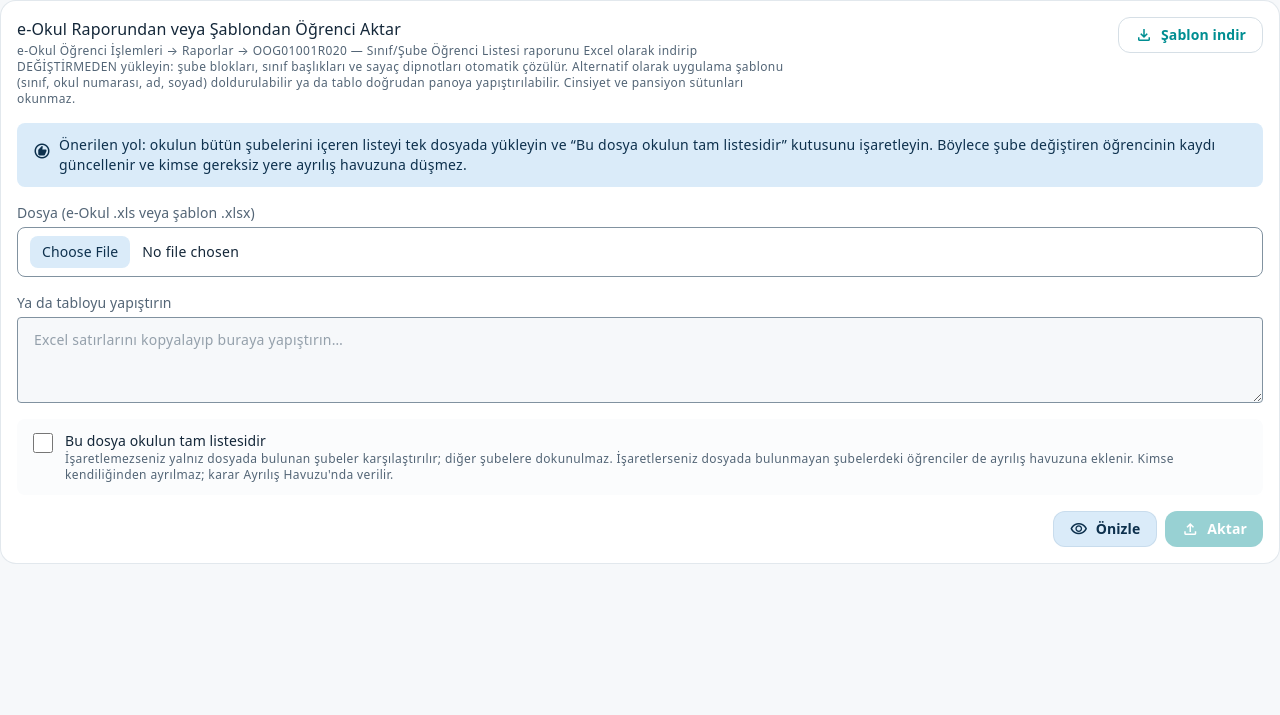
Test: AktarimPaneli — öğrenci mutabakatı ve ayrılış havuzu › onay kutusu değişince eski önizleme düşer (kapsam değişti)
Type "liste" into the text box labelled "Ya da tabloyu yapıştırın". click: [640, 360]
box: [17,317,1263,403]
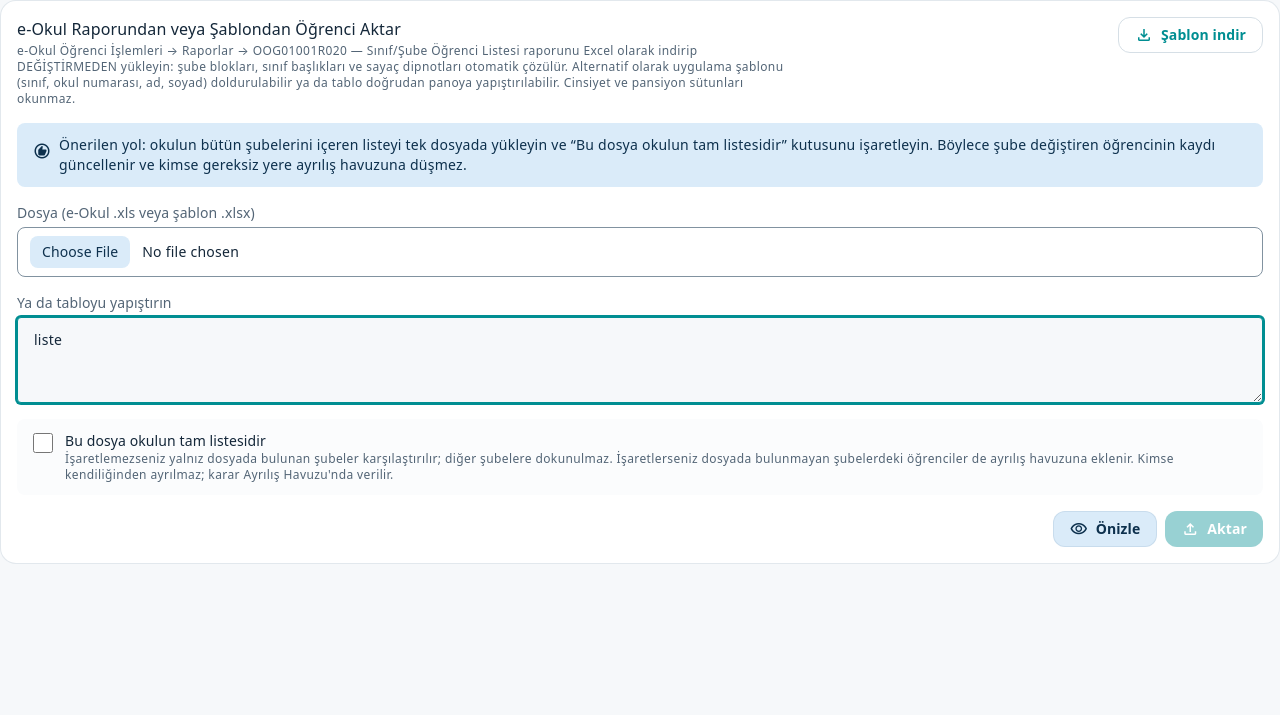
Click the button "Önizle". click: [1105, 529]
box: [1053,511,1157,547]
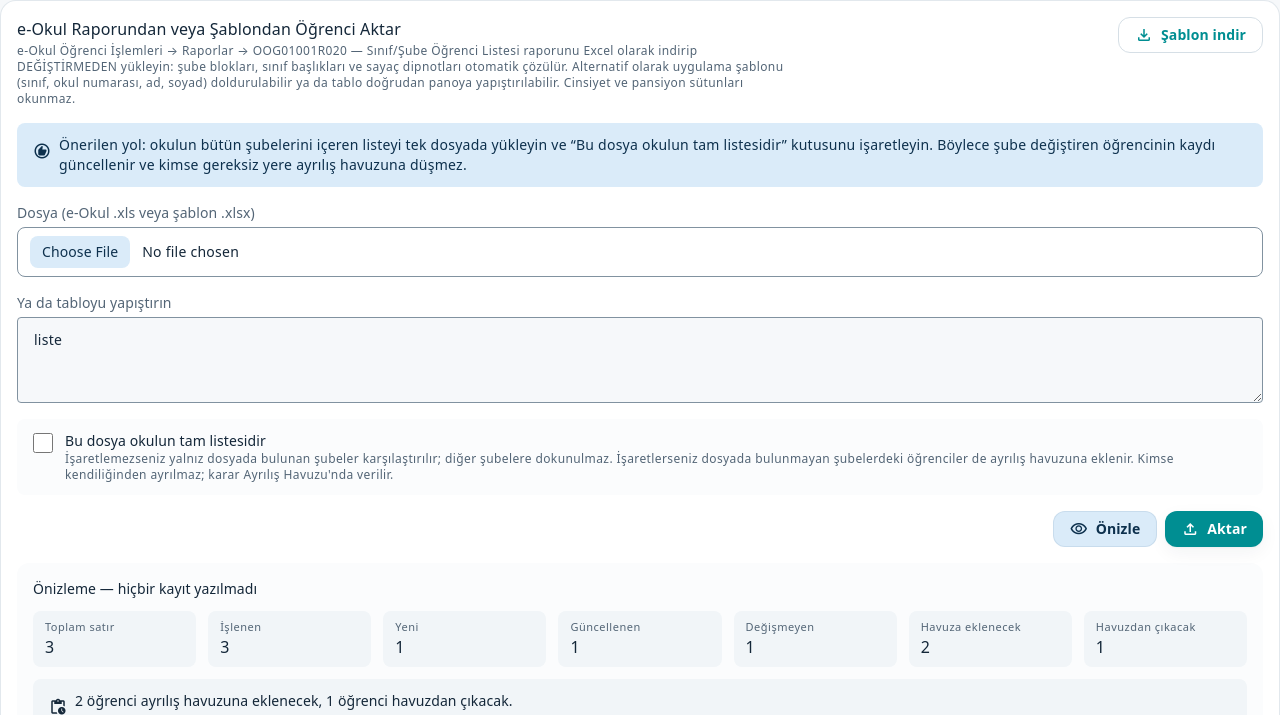
Check: the text "Önizleme — hiçbir kayıt yazılmadı" is shown, box [33,579,257,598]
Click the checkbox labelled "Bu dosya okulun tam listesidir". click: [43, 443]
box: [33,433,53,453]
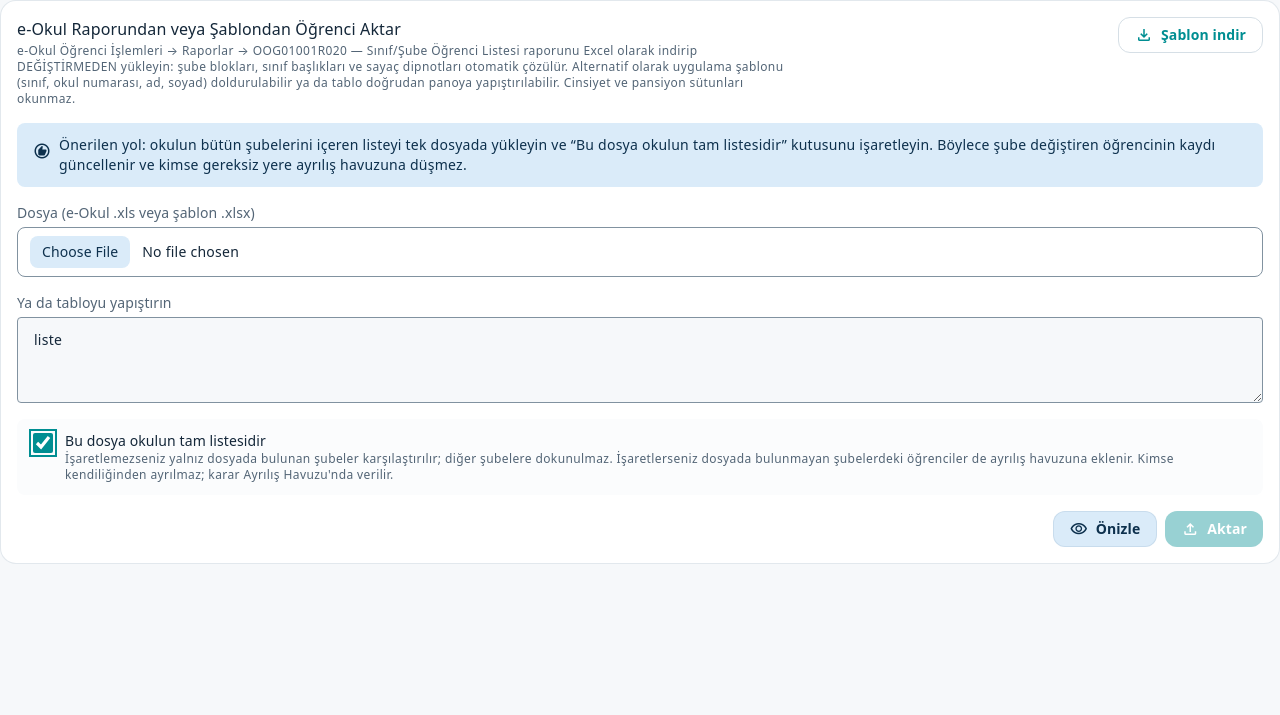
Check: the text "Önizleme — hiçbir kayıt yazılmadı" is gone
Check: the button "Aktar" is disabled, box [1165,511,1263,547]
